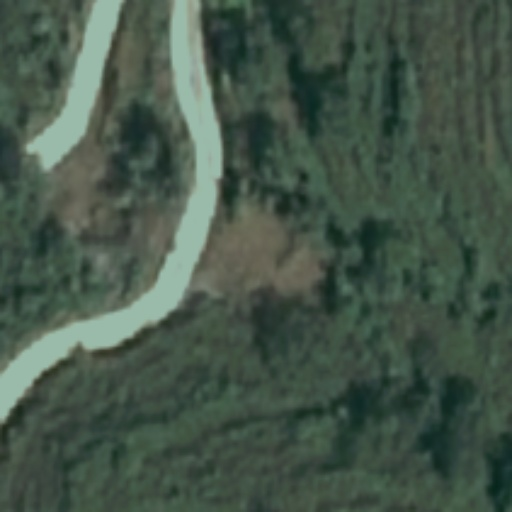landslide: (211, 205, 323, 301)
